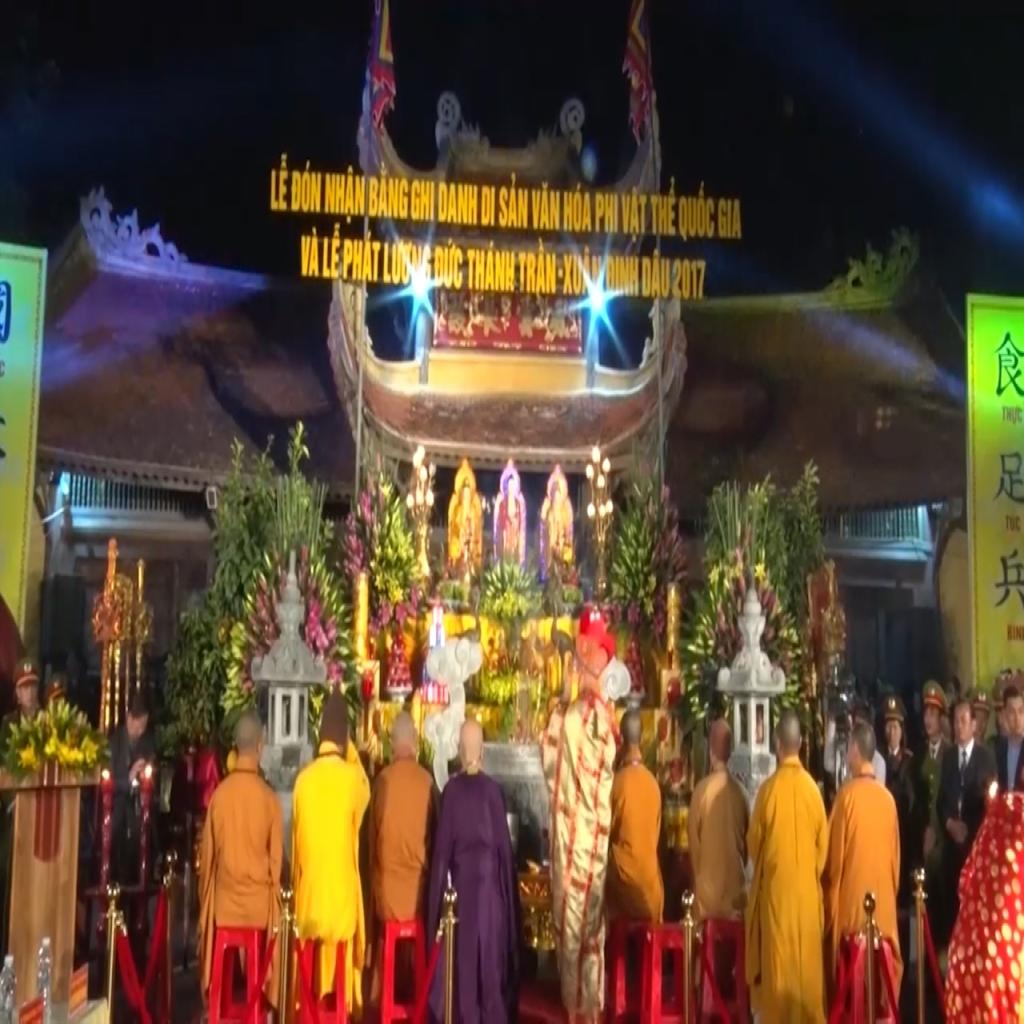text: (464, 239, 518, 299), (518, 236, 564, 297), (324, 162, 367, 225), (367, 162, 410, 223), (679, 175, 715, 245), (340, 230, 382, 289), (498, 172, 532, 236), (650, 175, 679, 245), (602, 250, 642, 300), (431, 236, 465, 294), (671, 254, 709, 304), (290, 158, 322, 217), (437, 184, 478, 230), (642, 244, 672, 306), (532, 180, 562, 238), (621, 185, 649, 246), (563, 184, 594, 236), (716, 194, 746, 244), (382, 238, 414, 284), (298, 224, 323, 282), (323, 223, 344, 283), (270, 155, 290, 215), (410, 179, 436, 223), (563, 246, 584, 299), (595, 194, 619, 236), (479, 185, 497, 230), (997, 404, 1024, 427), (1001, 512, 1024, 538)
